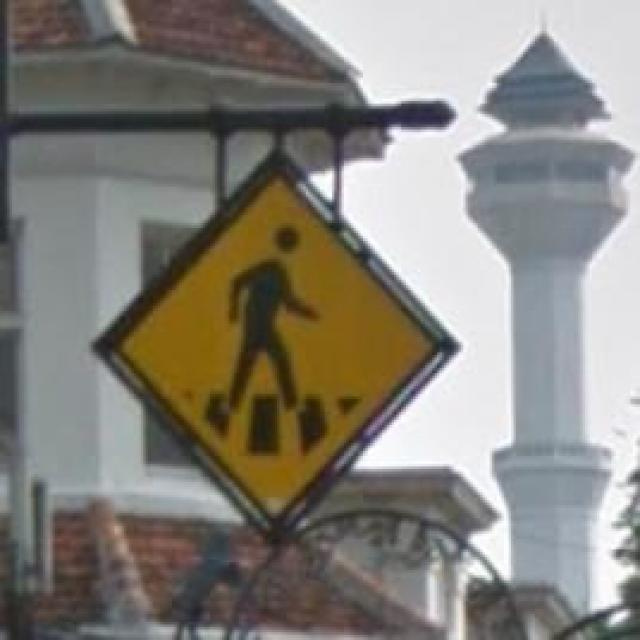traffic sign: (134, 186, 418, 508)
